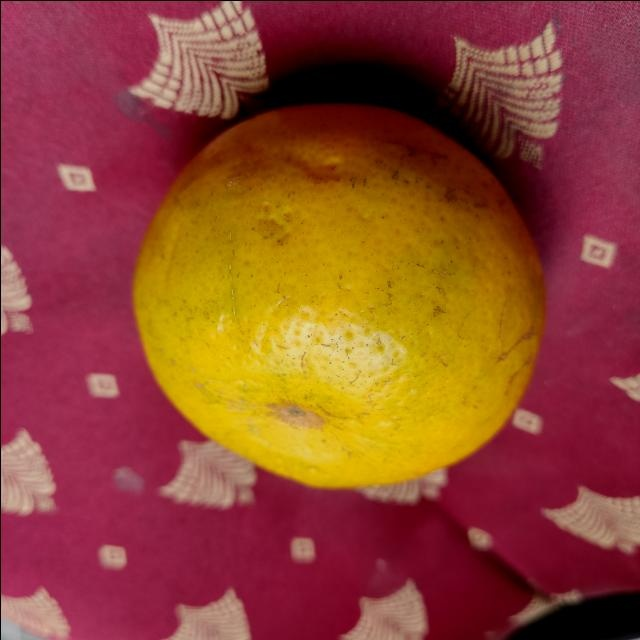agrume: (126, 95, 550, 493)
